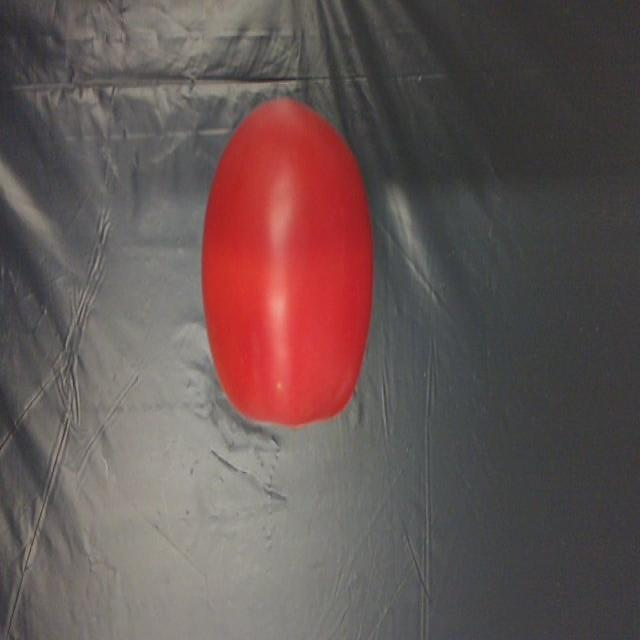kirmizi: (202, 99, 368, 436)
